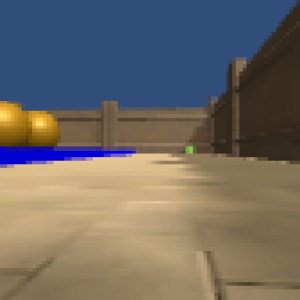goodGoal: (184, 145, 196, 155)
goodGoalMulti: (1, 100, 31, 147), (31, 108, 59, 146)
platform: (1, 147, 136, 170)
